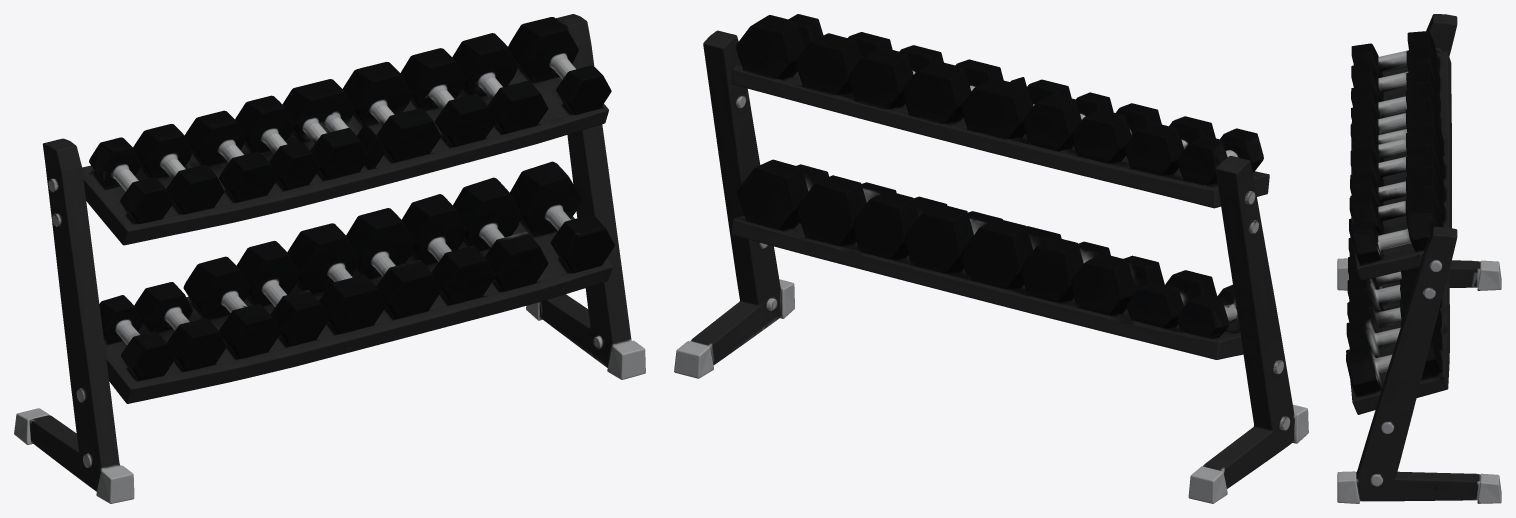
The model's file is dumbbell_rack__hunyuan.glb.
The picture shows the model from 3 angles, left to right: view 1: azimuth 30°, elevation 25°; view 2: azimuth 150°, elevation 25°; view 3: azimuth 270°, elevation 25°; orthographic projection. The views are drawn at different scales.
Visible parts, largest first — view 1: material; view 2: material; view 3: material.
Boxes of the visible parts, x1,y1,x2,y2 form: material: [14, 14, 645, 503]; material: [674, 14, 1308, 503]; material: [1337, 14, 1501, 503].
Bounding box in the file's own units: 1.01 × 0.5847 × 0.3113.
1 material, 1 textured.
